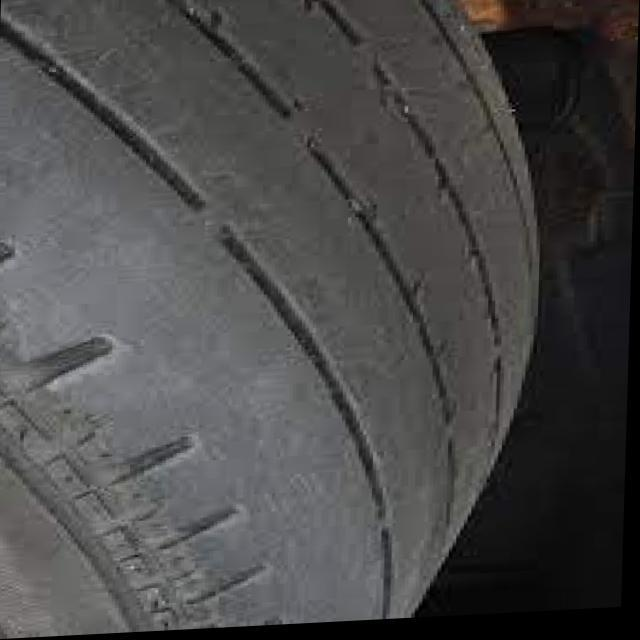Flat spots: (0, 0, 471, 489)
